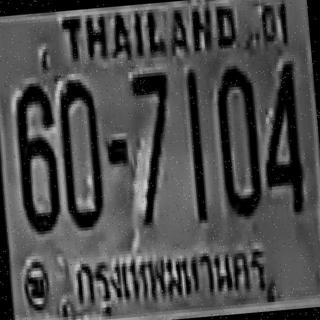N00: (55, 75, 104, 229), (213, 61, 262, 215)
N01: (183, 69, 208, 220)
N04: (256, 59, 304, 213)
N06: (11, 79, 60, 232)
N07: (128, 69, 178, 225)
P04: (64, 228, 280, 320)
